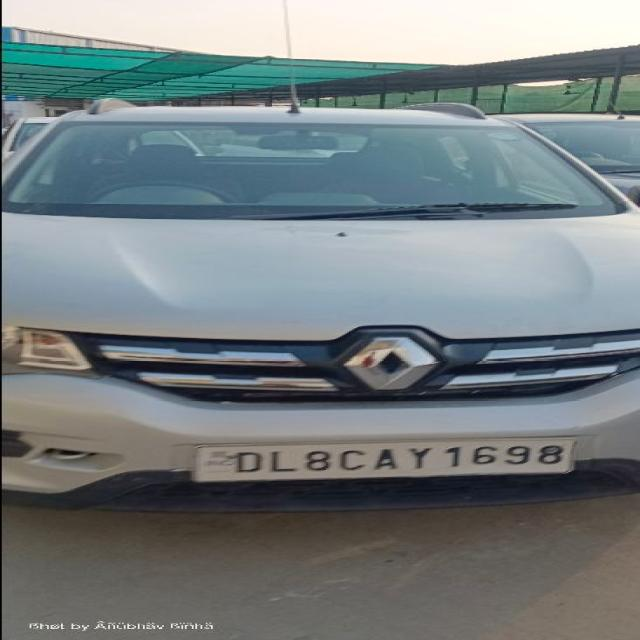license_plate: (188, 437, 578, 482)
